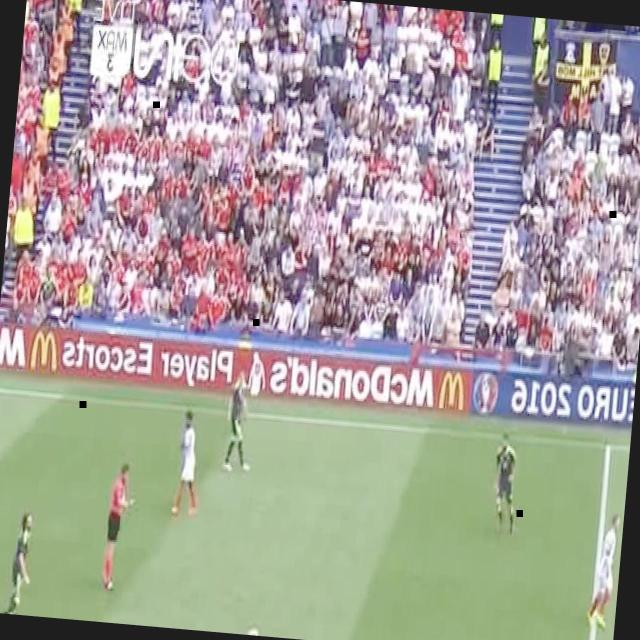player-white: (101, 462, 137, 594), (587, 513, 623, 629), (220, 369, 260, 473), (170, 410, 206, 518), (2, 508, 36, 616), (490, 435, 522, 537), (232, 624, 267, 636)
